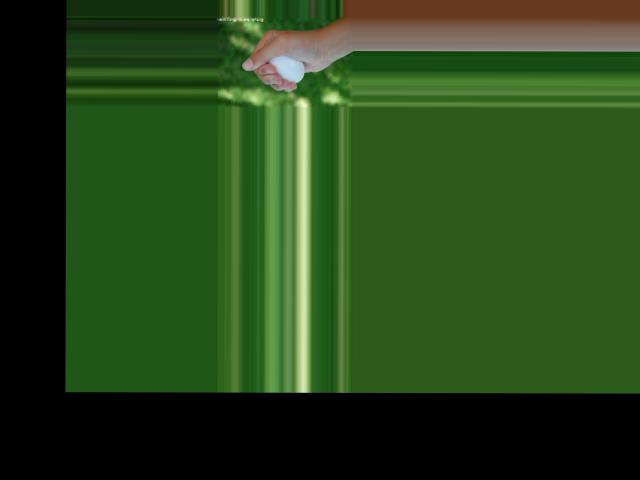egg: (267, 55, 304, 83)
